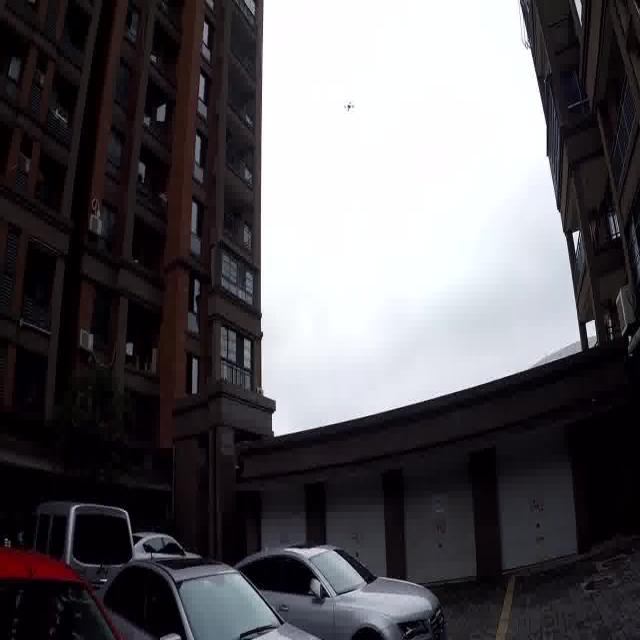drone: (335, 82, 361, 119)
